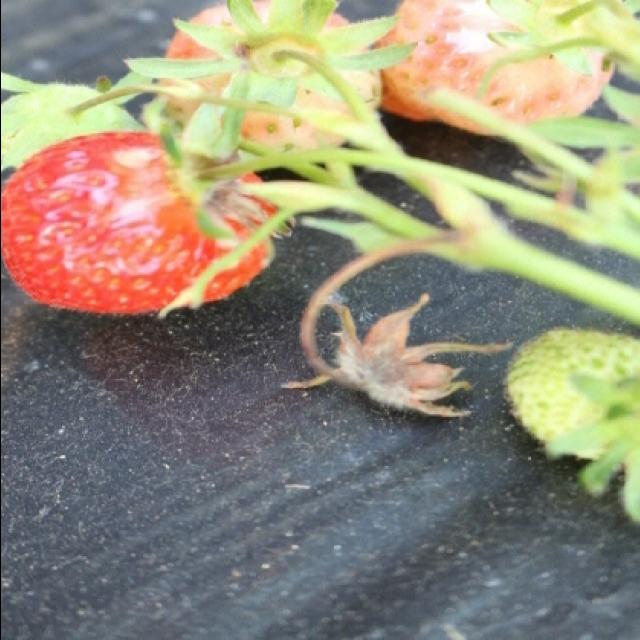Gray Mold: (278, 287, 510, 416)
